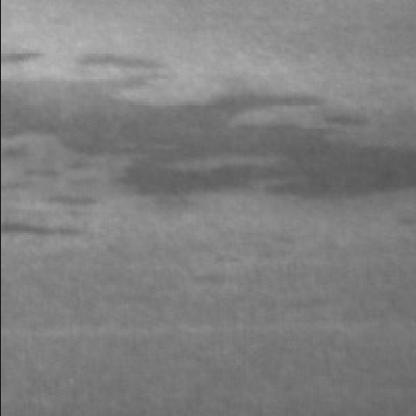inclusion: (0, 44, 410, 206), (0, 210, 98, 244)
